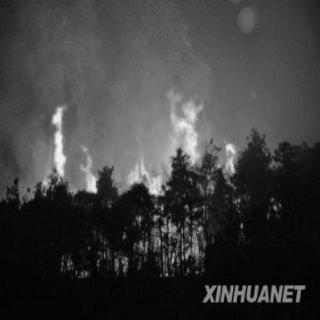Fire: (22, 68, 254, 211)
